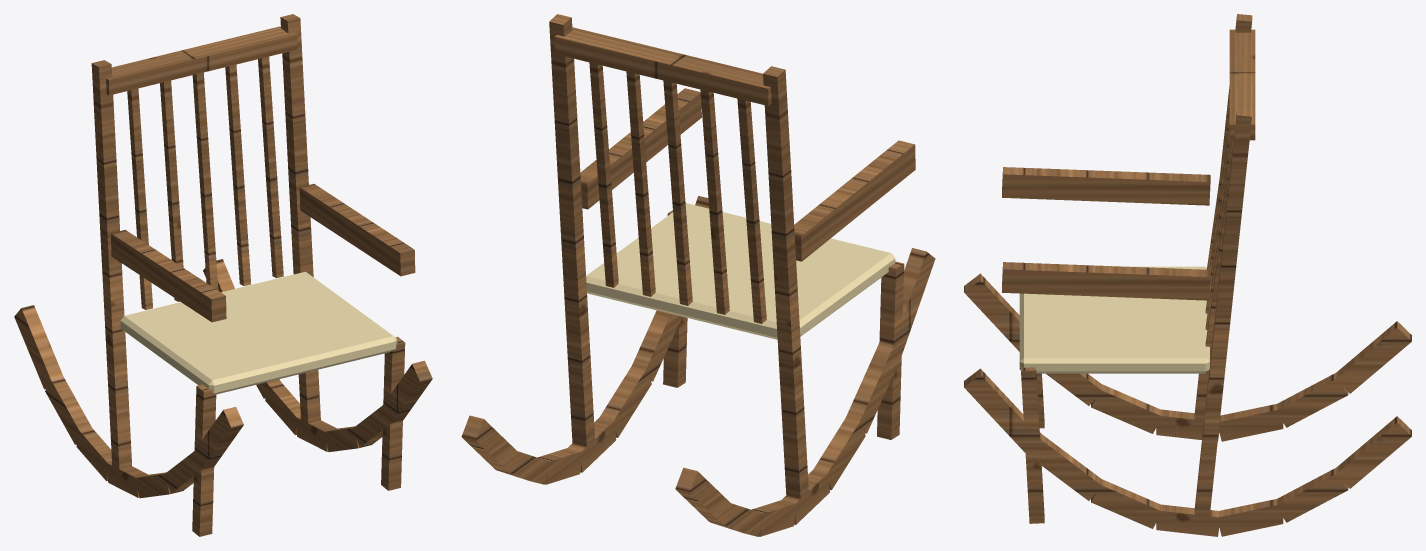
The model's file is rocking_chair.glb.
3 renders of one model, left to right at view 1: azimuth 30°, elevation 25°; view 2: azimuth 150°, elevation 25°; view 3: azimuth 270°, elevation 25°, orthographic. The views are drawn at different scales.
Parts seen in each view (by area): view 1: rocking_chair_wood, rocking_chair_hay; view 2: rocking_chair_wood, rocking_chair_hay; view 3: rocking_chair_wood, rocking_chair_hay.
Boxes of the visible parts, left/top/right/bottom form: rocking_chair_wood: left=14, top=14, right=432, bottom=536; rocking_chair_hay: left=120, top=271, right=397, bottom=394; rocking_chair_wood: left=461, top=14, right=935, bottom=536; rocking_chair_hay: left=586, top=203, right=895, bottom=339; rocking_chair_wood: left=964, top=14, right=1411, bottom=536; rocking_chair_hay: left=1019, top=266, right=1209, bottom=373.
Size of the model in its own units: 0.56 by 1.08 by 1.04.
2 materials, 1 textured.
